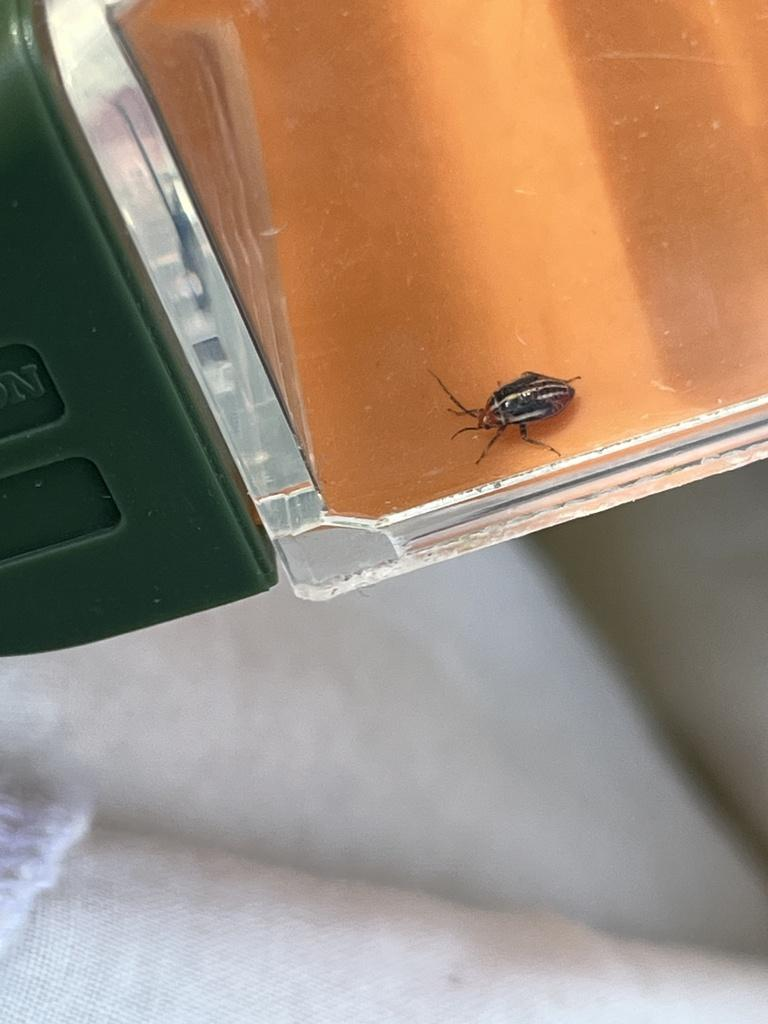plant_bugs: (403, 336, 611, 481)
